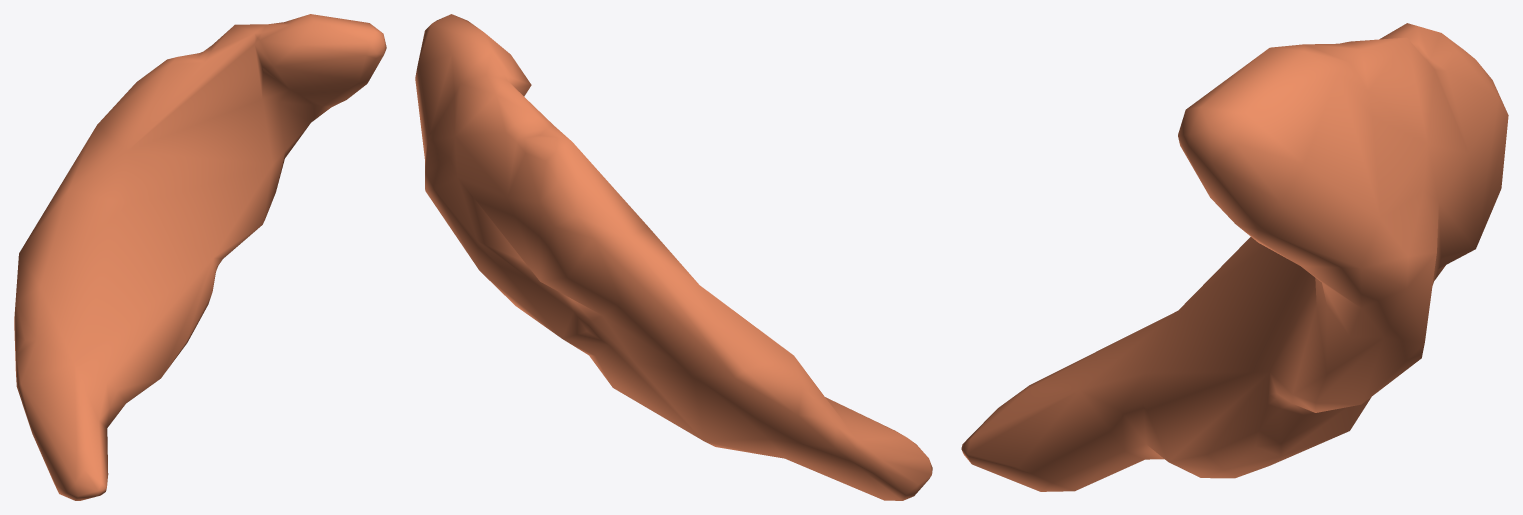
The model's file is Seminal_gland_left.glb.
3 renders of one model, left to right at view 1: azimuth 30°, elevation 25°; view 2: azimuth 150°, elevation 25°; view 3: azimuth 270°, elevation 25°, orthographic. The views are drawn at different scales.
Visible parts, largest first — view 1: Seminal_gland.l_Generated_Mesh_From_X3D.124; view 2: Seminal_gland.l_Generated_Mesh_From_X3D.124; view 3: Seminal_gland.l_Generated_Mesh_From_X3D.124.
Part boxes in pixels (x1=…): Seminal_gland.l_Generated_Mesh_From_X3D.124: x1=14, y1=14, x2=386, y2=500; Seminal_gland.l_Generated_Mesh_From_X3D.124: x1=415, y1=14, x2=932, y2=500; Seminal_gland.l_Generated_Mesh_From_X3D.124: x1=961, y1=23, x2=1508, y2=491.
Bounding box in the file's own units: 0.0329 × 0.0306 × 0.021.
